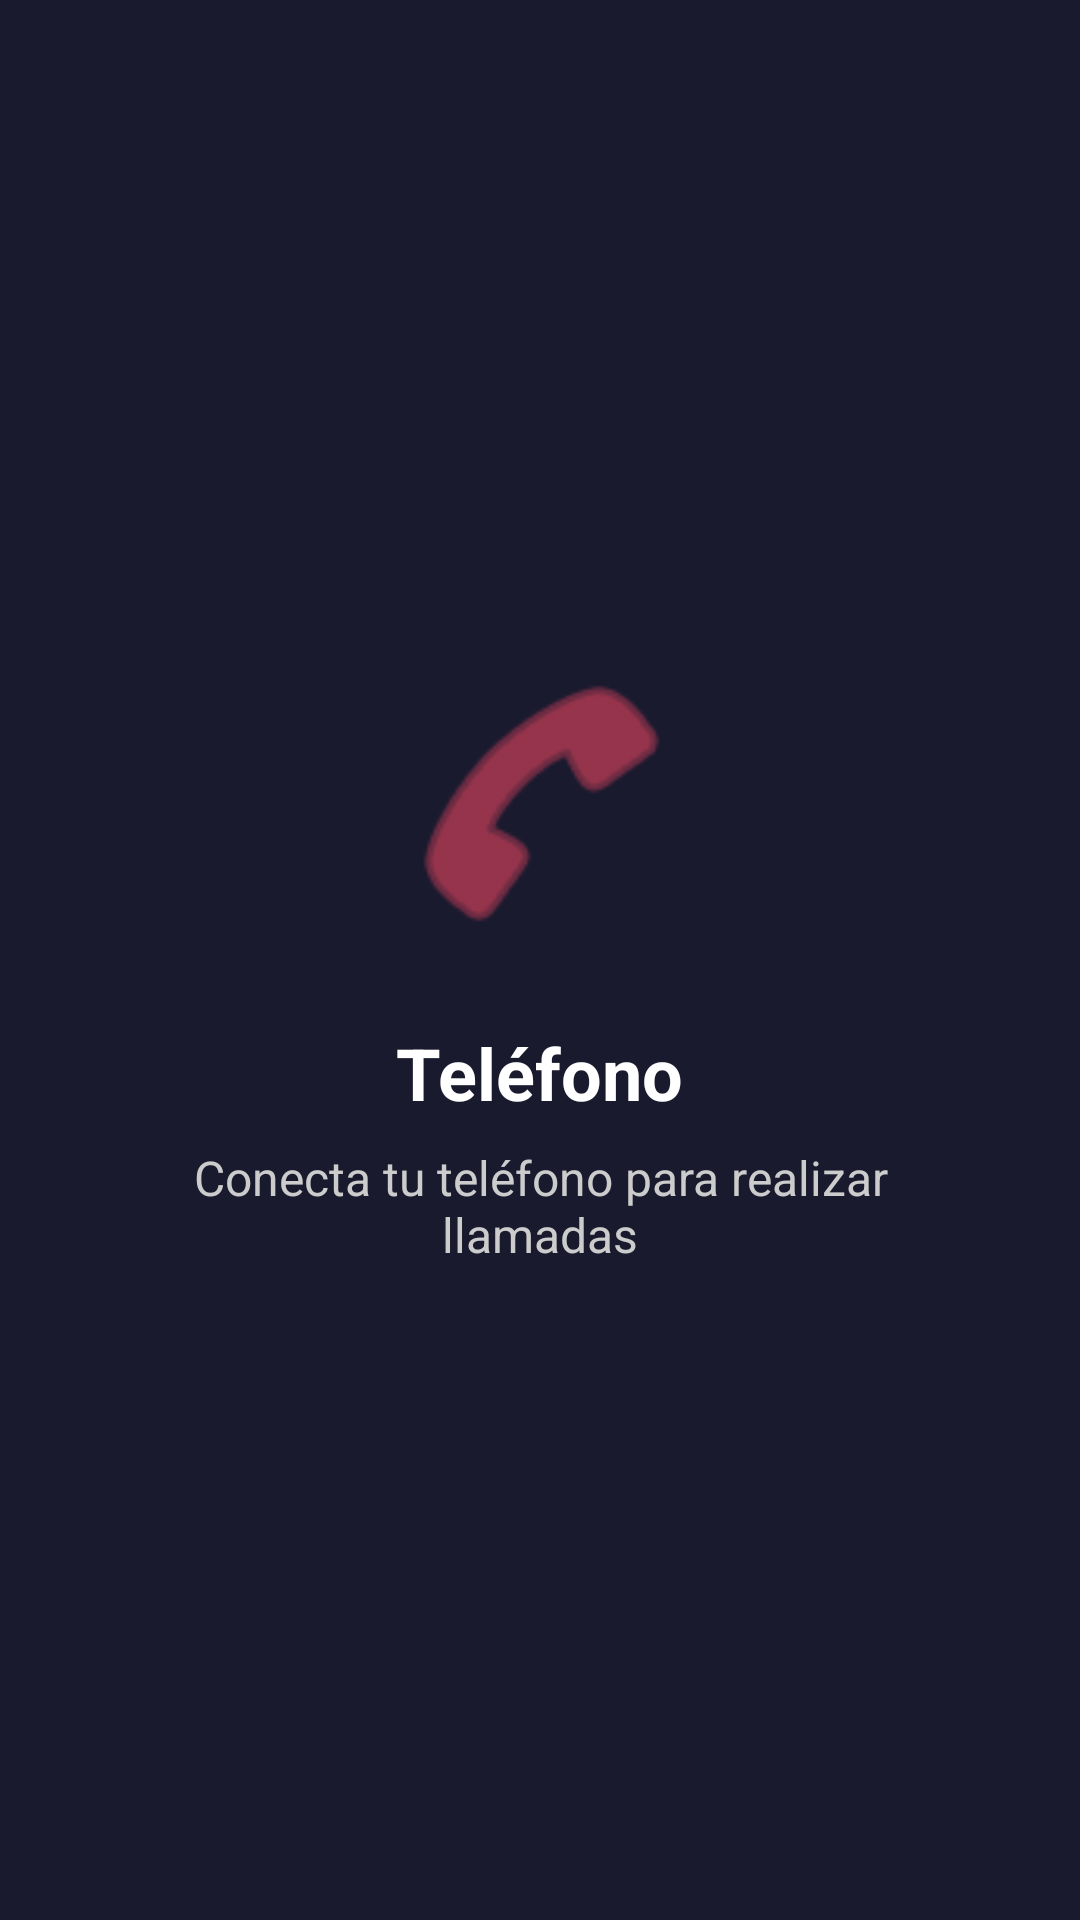

Icon bounding boxes for this 1080*1920 phone screenshot, format (x1, y1, x2, y2):
call: (424, 686, 659, 921)
